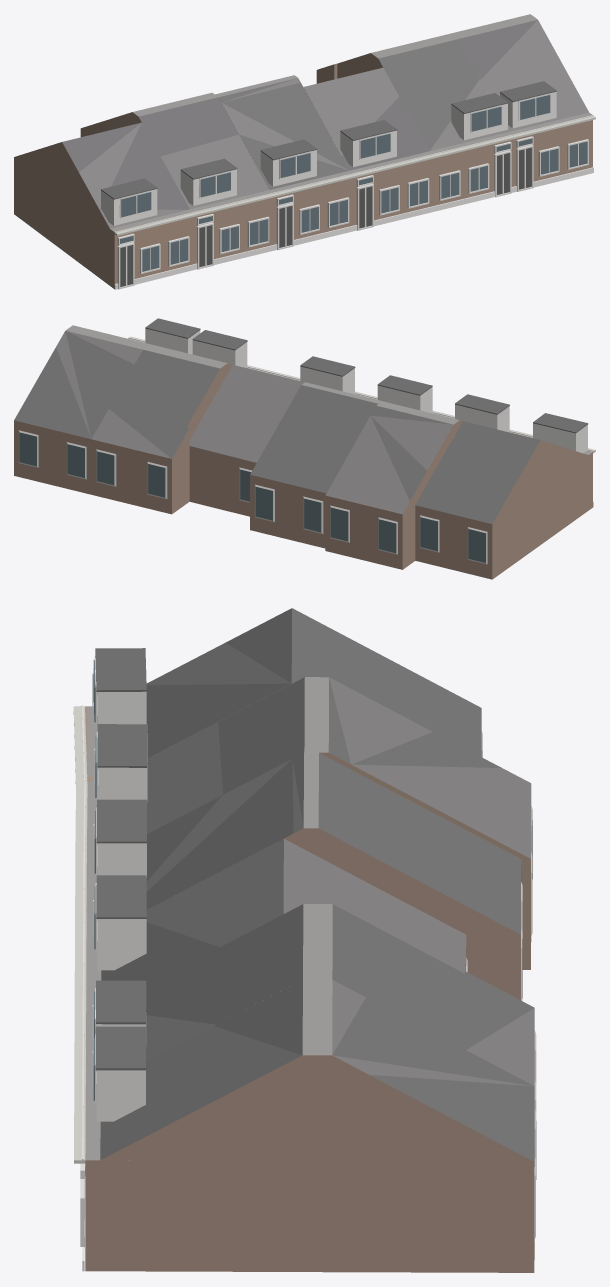
Rendered from chunk-face-nieuwendammerdijk-135-163-r1.glb.
3 views of the same model, one above another, from view 1: azimuth 30°, elevation 25°; view 2: azimuth 150°, elevation 25°; view 3: azimuth 270°, elevation 25° (orthographic). The views are drawn at different scales.
Visible parts, largest first — view 1: face-nieuwendammerdijk-135-163-r1; view 2: face-nieuwendammerdijk-135-163-r1; view 3: face-nieuwendammerdijk-135-163-r1.
Boxes of the visible parts, box(x1,y1,x2,y2) form: face-nieuwendammerdijk-135-163-r1: box(14, 14, 595, 289); face-nieuwendammerdijk-135-163-r1: box(14, 318, 595, 579); face-nieuwendammerdijk-135-163-r1: box(73, 608, 536, 1272).
Size of the model in its own units: 28.53 by 6.33 by 12.24.
